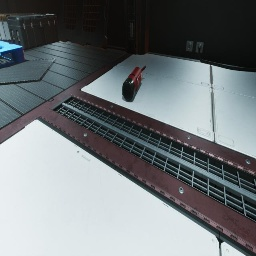FireExtinguisher ]: (122, 66, 146, 101)
